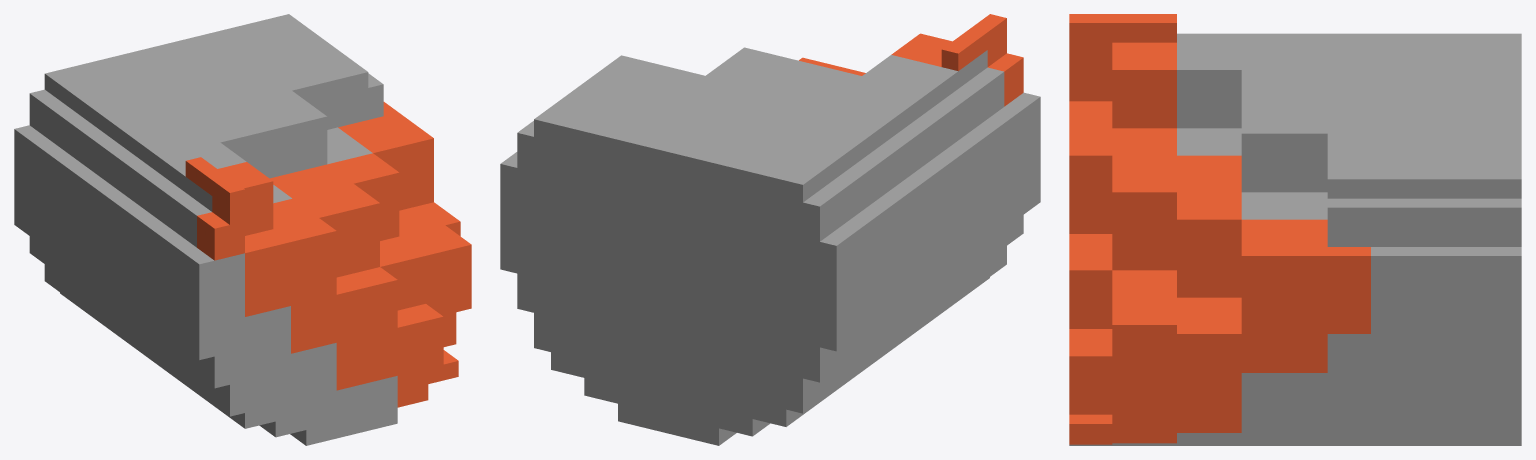
File: Mine4-3.obj
The picture shows the model from 3 angles, left to right: view 1: azimuth 30°, elevation 25°; view 2: azimuth 150°, elevation 25°; view 3: azimuth 270°, elevation 25°; orthographic projection. The views are drawn at different scales.
Size of the model in its own units: 2 by 1.7 by 2.1.
